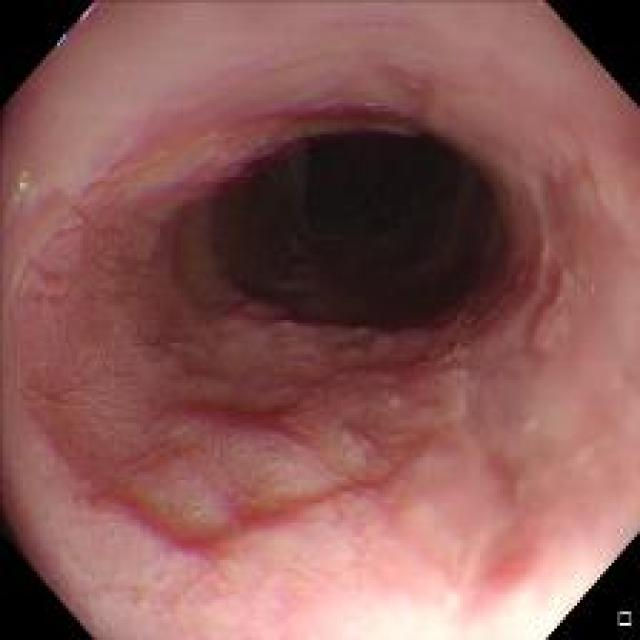color misalignment: (156, 86, 411, 205), (8, 164, 42, 228), (52, 4, 100, 40)
contrast: (194, 129, 550, 350)
saturation: (334, 545, 599, 635)
